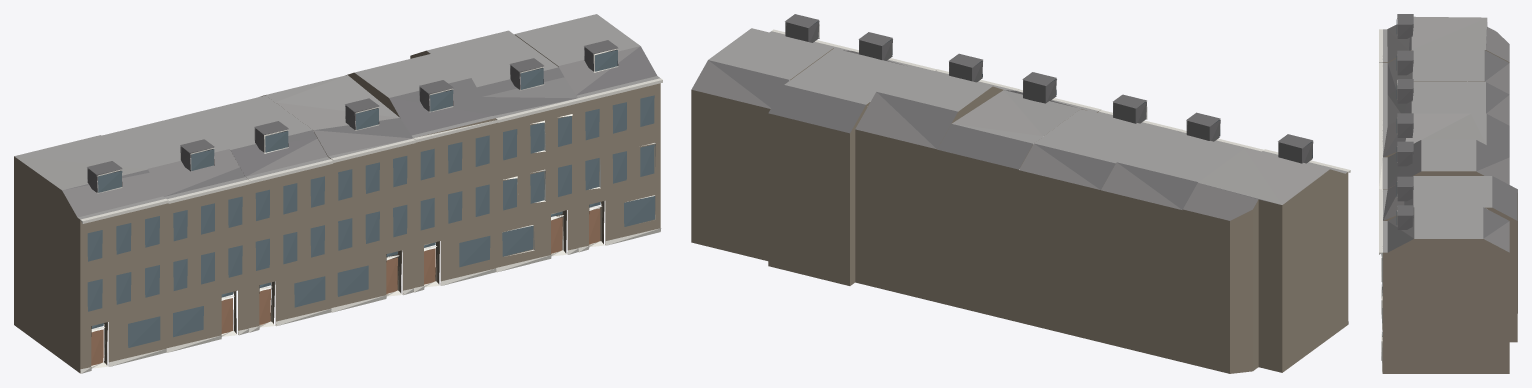
File: chunk-face-coppelstock-25-55-r1.lod2.glb
3 renders of one model, left to right at view 1: azimuth 30°, elevation 25°; view 2: azimuth 150°, elevation 25°; view 3: azimuth 270°, elevation 25°, orthographic. The views are drawn at different scales.
Parts seen in each view (by area): view 1: lod2; view 2: lod2; view 3: lod2.
Part boxes in pixels (x1,y1,x2,y2): lod2: (14, 14, 662, 373); lod2: (691, 14, 1350, 373); lod2: (1379, 14, 1517, 373).
Size of the model in its own units: 42.97 by 13.16 by 11.28.
